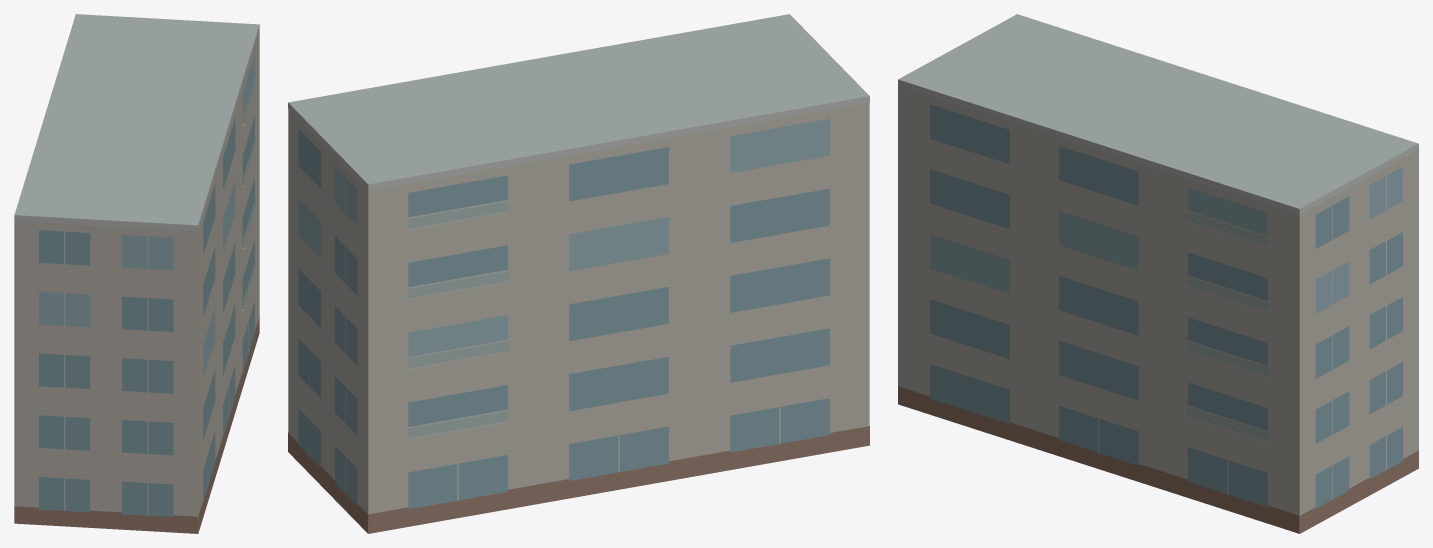
File: survey-upis-32638806.glb
The picture shows the model from 3 angles, left to right: view 1: azimuth 30°, elevation 25°; view 2: azimuth 150°, elevation 25°; view 3: azimuth 270°, elevation 25°; orthographic projection. The views are drawn at different scales.
Visible parts, largest first — view 1: survey-upis-32638806.tmp; view 2: survey-upis-32638806.tmp; view 3: survey-upis-32638806.tmp.
Part boxes in pixels (x1,y1,x2,y2): survey-upis-32638806.tmp: (14,14,259,533); survey-upis-32638806.tmp: (288,14,869,533); survey-upis-32638806.tmp: (898,14,1418,533).
Bounding box in the file's own units: 17.38 × 13.5 × 19.62.
